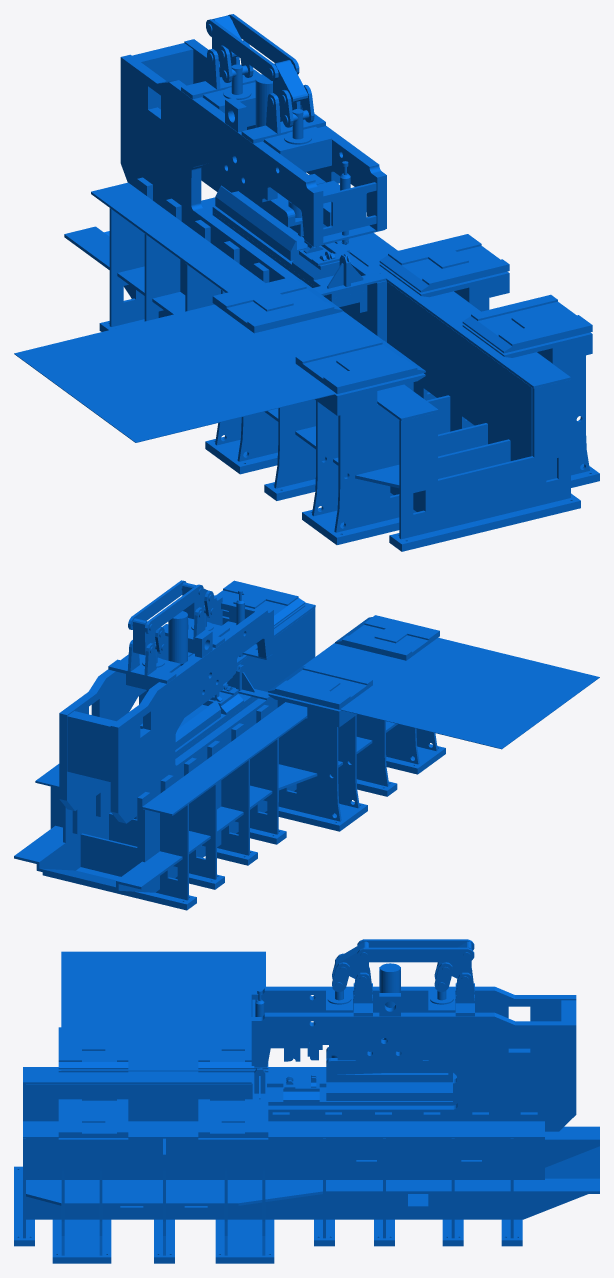
Rendered from Soldier.glb.
3 renders of one model, top to bottom at view 1: azimuth 30°, elevation 25°; view 2: azimuth 150°, elevation 25°; view 3: azimuth 270°, elevation 25°, orthographic. The views are drawn at different scales.
Visible parts, largest first — view 1: 立方体.001_立方体.019, 立方体.003_立方体.031, 立方体.002_立方体.021, 立方体.010_立方体.018, 立方体.006_立方体.010, 立方体, 立方体.008_立方体.016, 立方体.009_立方体.017, 立方体.016_立方体.013, 柱体.013_柱体.017, 立方体.013_立方体.001, 立方体.020_立方体.023 (+12 smaller); view 2: 立方体.001_立方体.019, 立方体.003_立方体.031, 立方体.002_立方体.021, 立方体, 立方体.010_立方体.018, 立方体.008_立方体.016, 立方体.007_立方体.033, 立方体.012_立方体.003, 柱体.013_柱体.017, 立方体.020_立方体.023, 立方体.009_立方体.017, 立方体.016_立方体.013 (+6 smaller); view 3: 立方体, 立方体.002_立方体.021, 立方体.003_立方体.031, 立方体.001_立方体.019, 立方体.008_立方体.016, 立方体.010_立方体.018, 立方体.016_立方体.013, 立方体.009_立方体.017, 立方体.020_立方体.023, 立方体.018_立方体.015, 柱体.013_柱体.017, 立方体.006_立方体.010 (+11 smaller).
Part boxes in pixels (x1,y1,x2,y2): 立方体.001_立方体.019: (99, 208, 599, 544); 立方体.003_立方体.031: (14, 304, 425, 442); 立方体.002_立方体.021: (120, 39, 386, 342); 立方体.010_立方体.018: (212, 234, 592, 393); 立方体.006_立方体.010: (389, 379, 580, 551); 立方体: (64, 197, 532, 511); 立方体.008_立方体.016: (91, 182, 570, 420); 立方体.009_立方体.017: (315, 264, 592, 415); 立方体.016_立方体.013: (215, 185, 307, 260); 柱体.013_柱体.017: (181, 48, 325, 143); 立方体.013_立方体.001: (203, 82, 331, 171); 立方体.020_立方体.023: (206, 14, 299, 80); 立方体.001_立方体.019: (42, 690, 445, 910); 立方体.003_立方体.031: (302, 637, 599, 749); 立方体.002_立方体.021: (59, 595, 273, 823); 立方体: (14, 608, 397, 892); 立方体.010_立方体.018: (188, 580, 439, 709); 立方体.008_立方体.016: (35, 602, 315, 815); 立方体.007_立方体.033: (67, 711, 115, 781); 立方体.012_立方体.003: (72, 705, 269, 849); 柱体.013_柱体.017: (108, 607, 224, 683); 立方体.020_立方体.023: (128, 580, 203, 634); 立方体.009_立方体.017: (222, 605, 439, 727); 立方体.016_立方体.013: (175, 700, 220, 749); 立方体: (26, 1084, 599, 1219); 立方体.002_立方体.021: (251, 986, 576, 1159); 立方体.003_立方体.031: (61, 951, 265, 1071); 立方体.001_立方体.019: (52, 1138, 522, 1263); 立方体.008_立方体.016: (23, 1067, 544, 1138); 立方体.010_立方体.018: (58, 1027, 268, 1137); 立方体.016_立方体.013: (326, 1074, 452, 1100); 立方体.009_立方体.017: (58, 1069, 268, 1156); 立方体.020_立方体.023: (357, 939, 474, 962); 立方体.018_立方体.015: (326, 1038, 452, 1078); 柱体.013_柱体.017: (353, 967, 474, 1016); 立方体.006_立方体.010: (14, 1084, 34, 1246).
Bounding box in the file's own units: 11.48 × 7.54 × 15.08.
